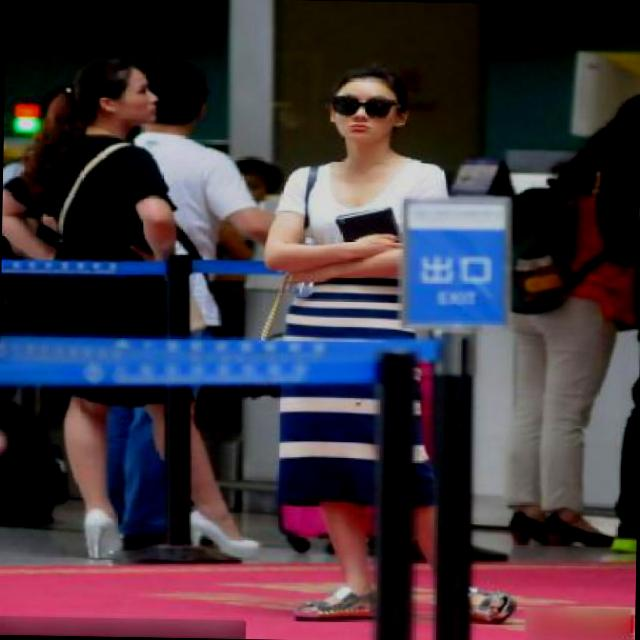Person: (267, 32, 495, 640), (15, 56, 234, 566)
